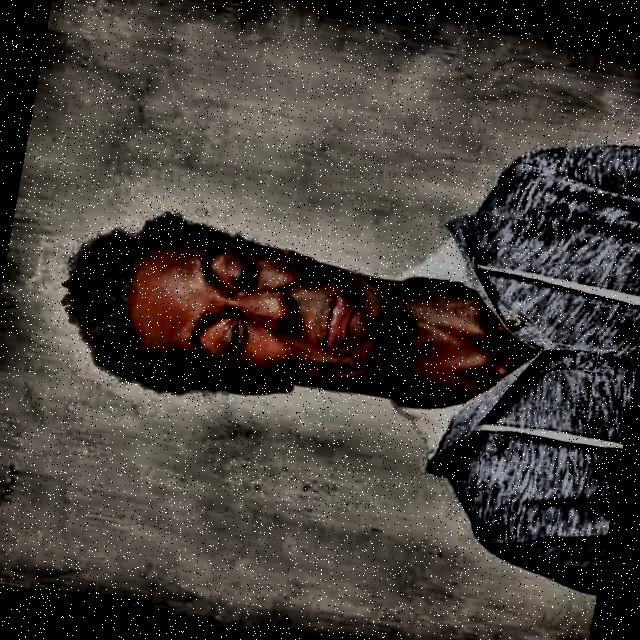disgust: (34, 181, 426, 436)
